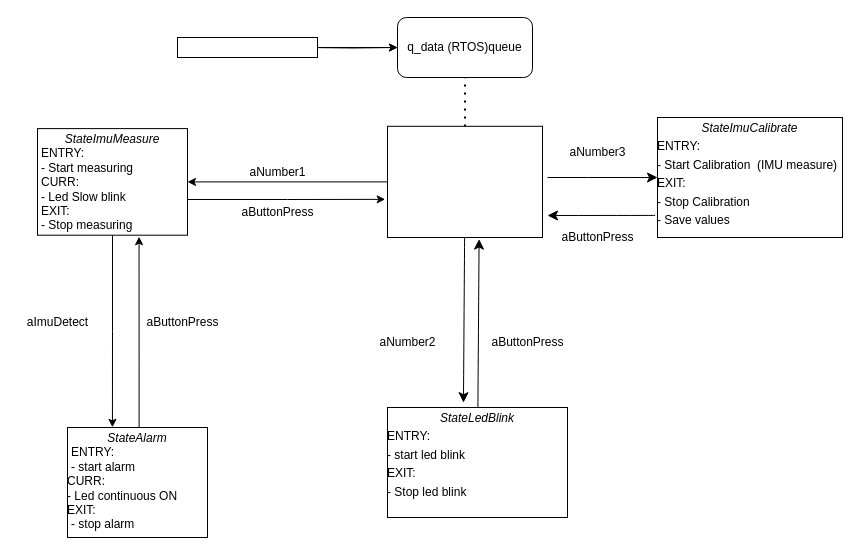
The diagram is 860 pixels wide and 555 high, and some of its shapes have lost their labels. The box of each missing label's shape, as (x1, y1, x2, y2) in pixels:
StateMenu ENTRY: - Display menu EXIT: - select option (UART): (386, 125, 542, 238)
UART RX ISR: (176, 36, 318, 58)
